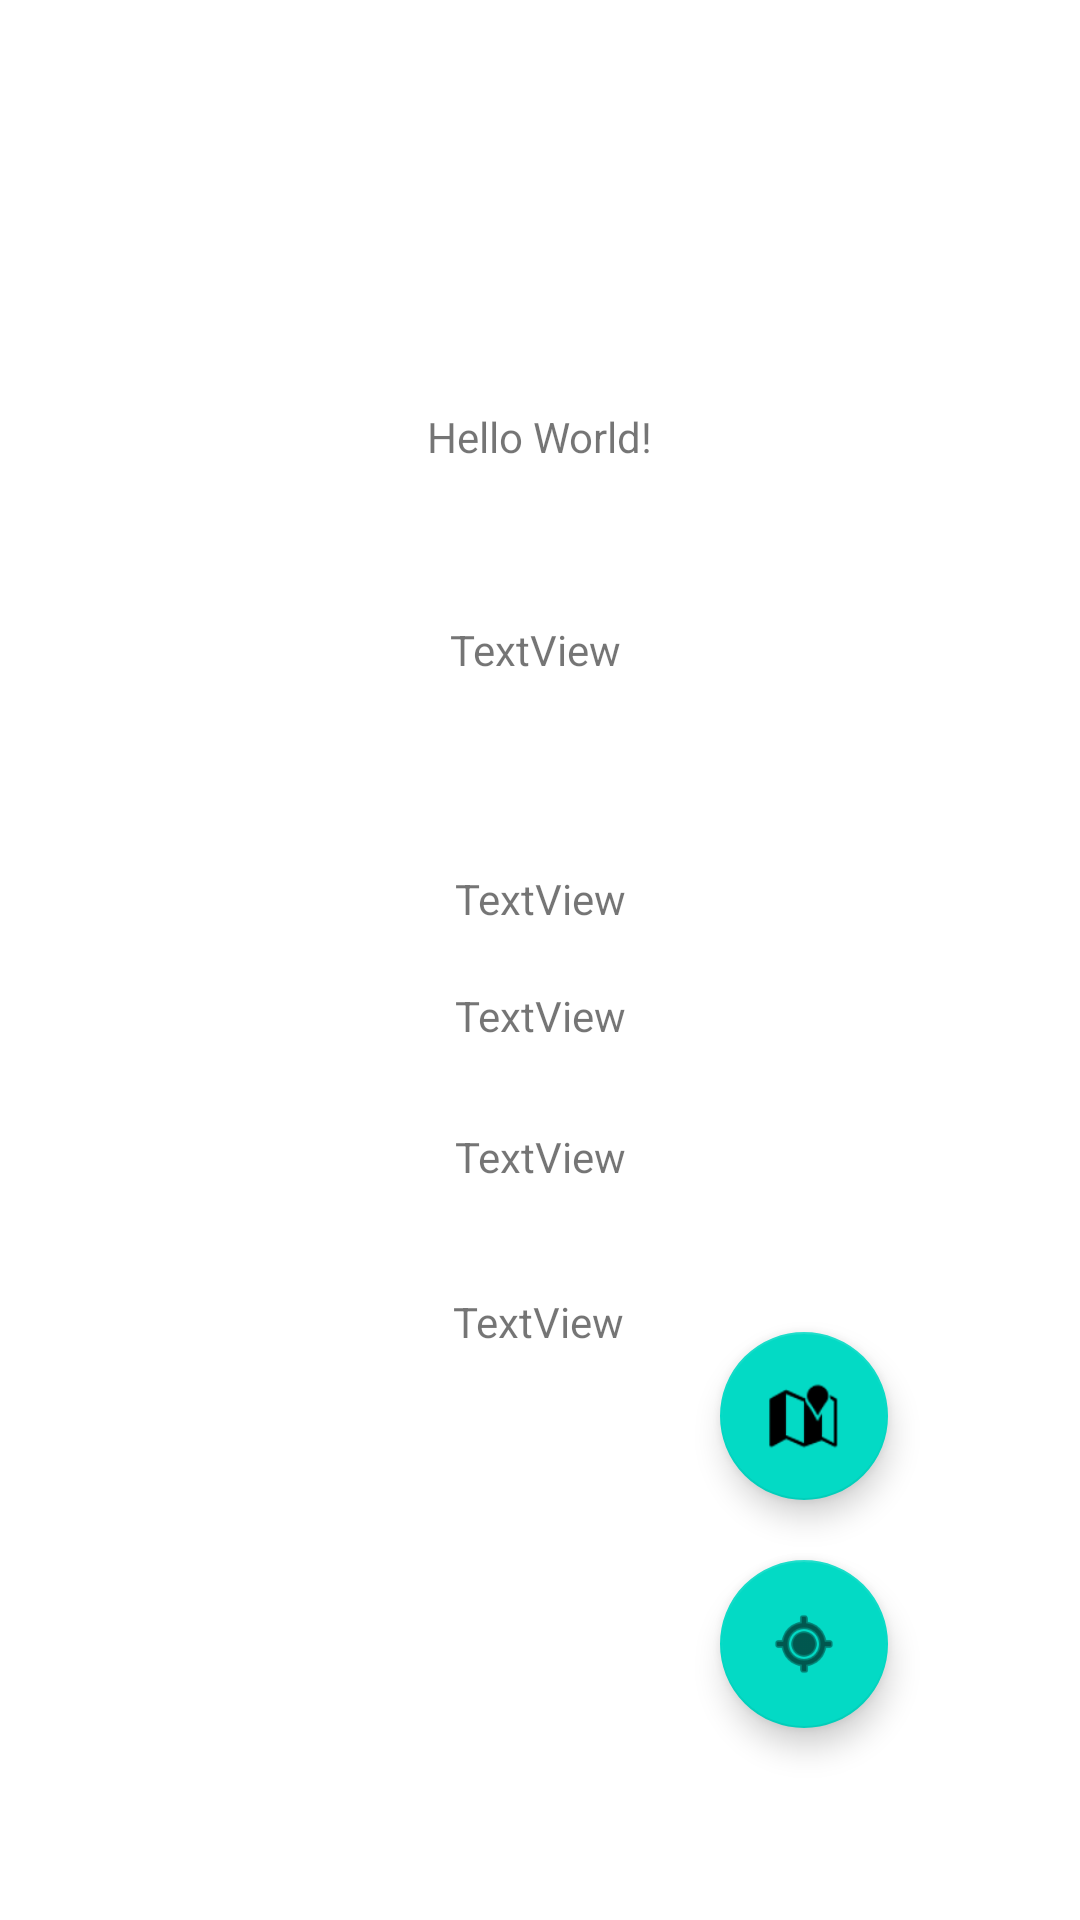

Icons on this 1080px×1920px Android screen, each with the point to tap as [x,y]:
Este botón activa el GPS: [804,1644]
